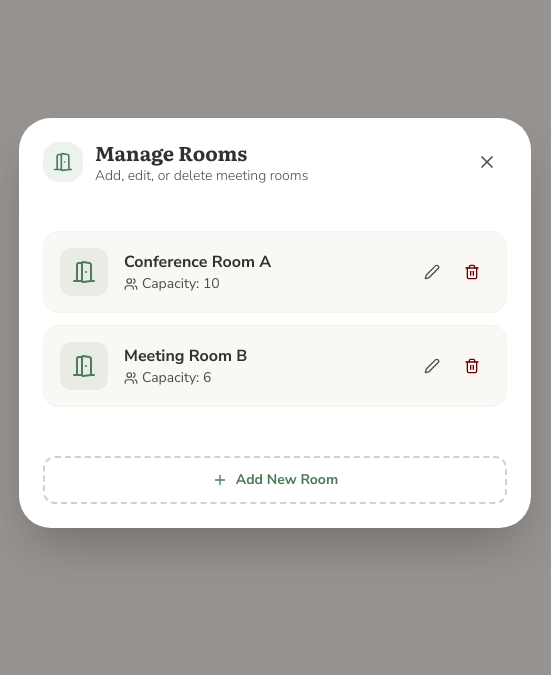
it: RoomManagerModal › should enter edit mode when clicking edit button
This screenshot has width=551, height=675.
Check: the heading "Conference Room A" is shown, box [124,251,271,273]
Click the button titled "Edit room" next to "Conference Room A" at (432, 272), box [414,254,450,290]
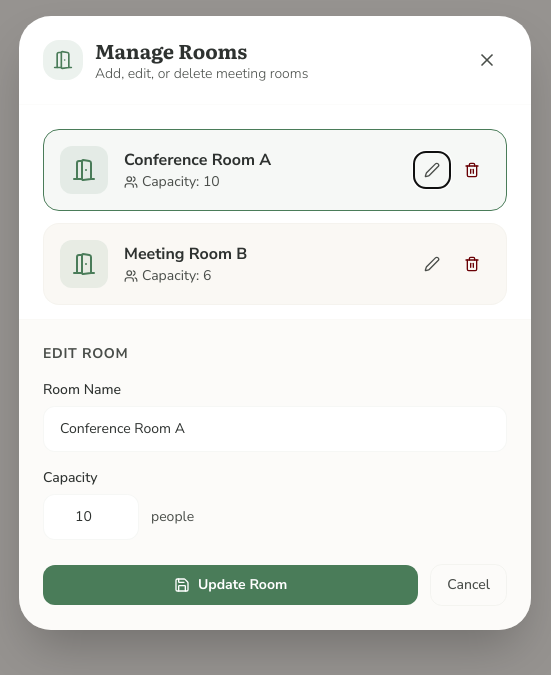
Check: the heading "Edit Room" is shown, box [43,344,128,363]
Check: the field showing "Conference Room A" is shown, box [43,406,507,452]
